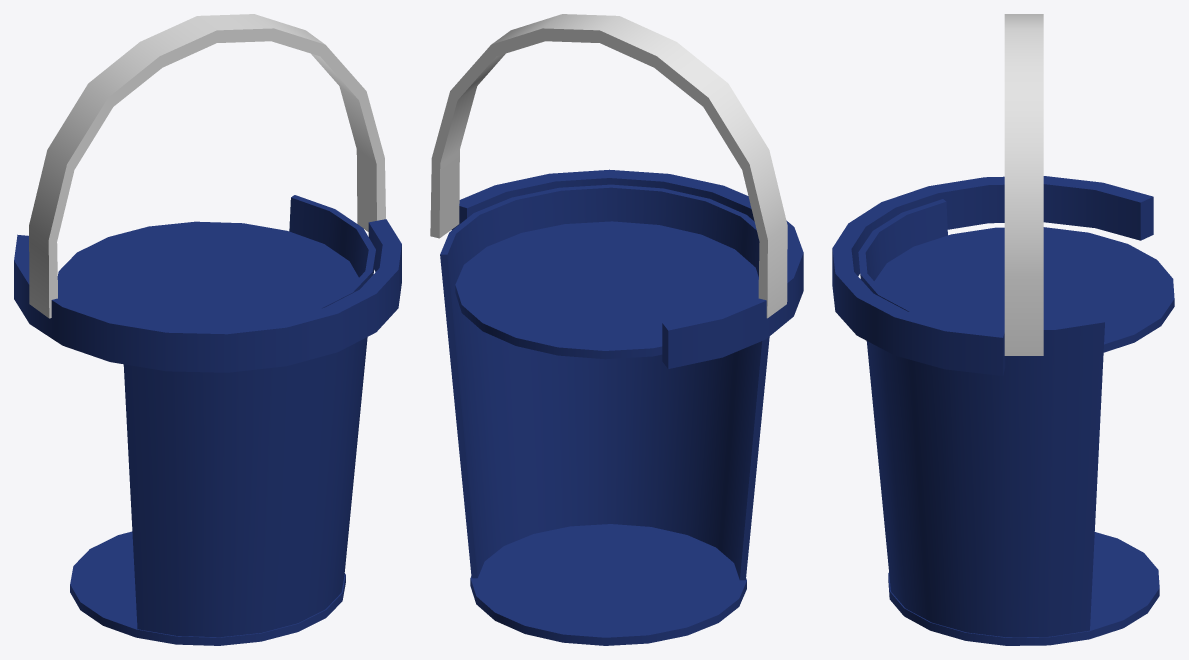
The model's file is Bucket Puzzle.fbx.
The picture shows the model from 3 angles, left to right: view 1: azimuth 30°, elevation 25°; view 2: azimuth 150°, elevation 25°; view 3: azimuth 270°, elevation 25°; orthographic projection.
Visible parts, largest first — view 1: pPipe1, pCylinder4, pPipe3, pCylinder2, pCylinder3; view 2: pPipe1, pCylinder4, pCylinder3, pCylinder2, pPipe3; view 3: pPipe1, pCylinder4, pPipe3, pCylinder2, pCylinder3.
Part boxes in pixels (<box>): pPipe1: <box>122,195,375,637</box>; pCylinder4: <box>57,221,358,323</box>; pPipe3: <box>14,219,401,372</box>; pCylinder2: <box>29,14,385,318</box>; pCylinder3: <box>70,531,345,645</box>; pPipe1: <box>440,184,769,580</box>; pCylinder4: <box>455,221,758,359</box>; pCylinder3: <box>470,524,746,645</box>; pCylinder2: <box>430,14,787,318</box>; pPipe3: <box>451,169,803,368</box>; pPipe1: <box>858,199,1104,637</box>; pCylinder4: <box>874,227,1174,352</box>; pPipe3: <box>832,176,1153,375</box>; pCylinder2: <box>1004,14,1043,355</box>; pCylinder3: <box>888,532,1159,645</box>.
Bounding box in the file's own units: 2.1 × 3.35 × 1.86.
